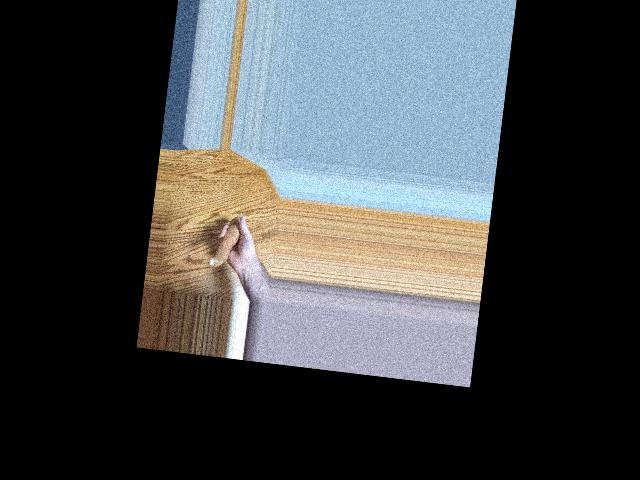sweet_potato: (209, 215, 244, 272)
